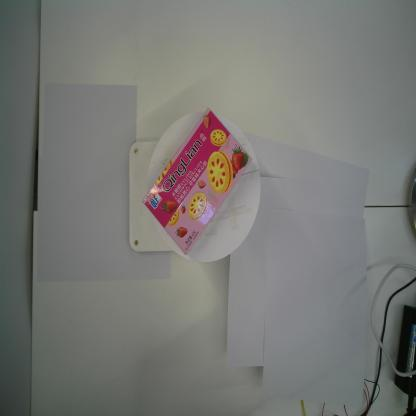Dessert: (141, 105, 253, 259)
